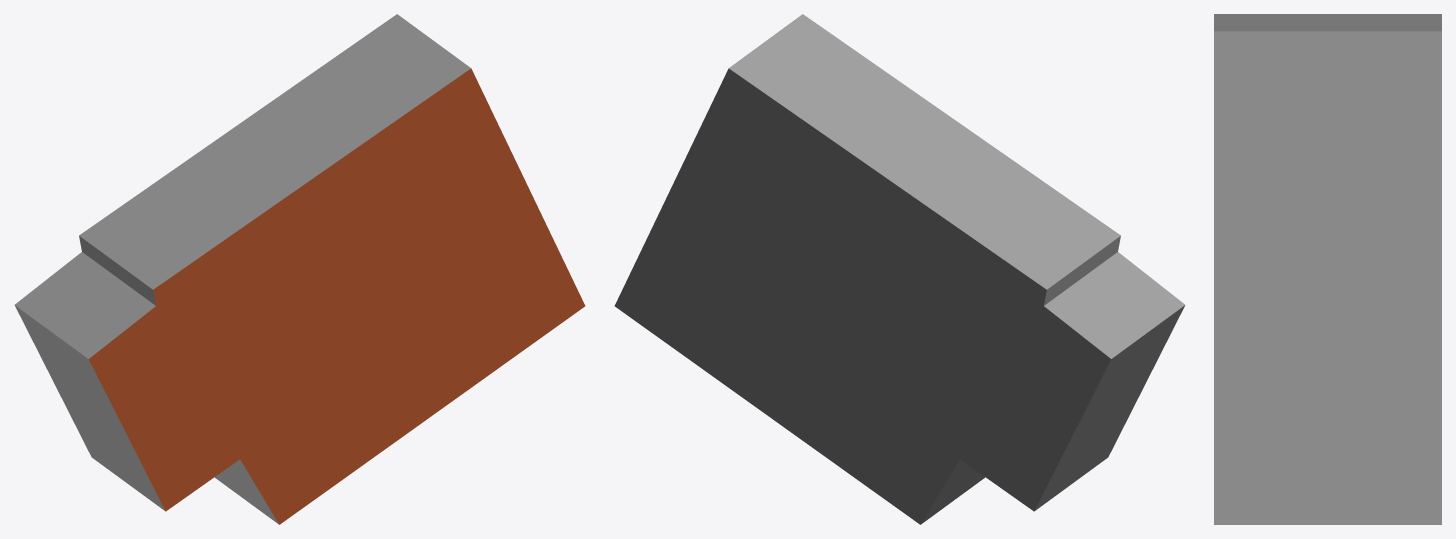
File: construction_4684_assumed_A_Casa_h6m.obj
The picture shows the model from 3 angles, left to right: view 1: azimuth 30°, elevation 25°; view 2: azimuth 150°, elevation 25°; view 3: azimuth 270°, elevation 25°; orthographic projection. The views are drawn at different scales.
Visible parts, largest first — view 1: construction_4684_assumed_A_Casa; view 2: construction_4684_assumed_A_Casa; view 3: construction_4684_assumed_A_Casa.
Boxes of the visible parts, x1,y1,x2,y2 form: construction_4684_assumed_A_Casa: (14, 14, 585, 524); construction_4684_assumed_A_Casa: (614, 14, 1185, 524); construction_4684_assumed_A_Casa: (1214, 14, 1441, 524).
Bounding box in the file's own units: 23.21 × 18.3 × 6.
